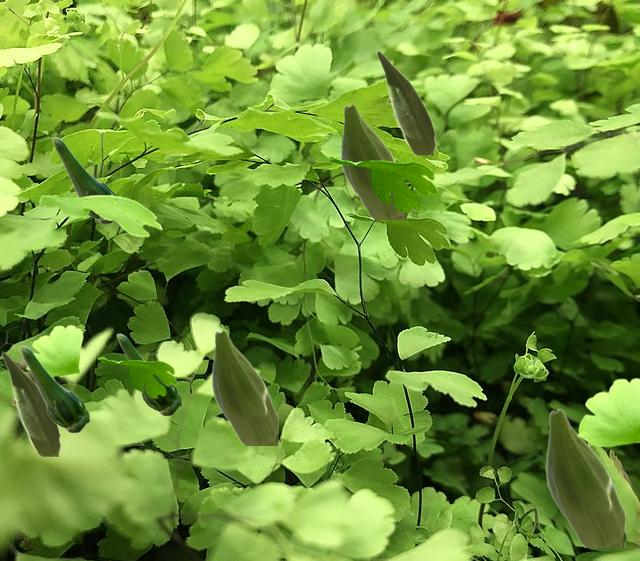okra: (545, 408, 624, 546), (211, 329, 277, 444), (340, 103, 406, 218), (19, 345, 89, 432), (376, 50, 434, 154), (1, 351, 59, 455), (51, 136, 115, 223), (116, 333, 181, 415)
